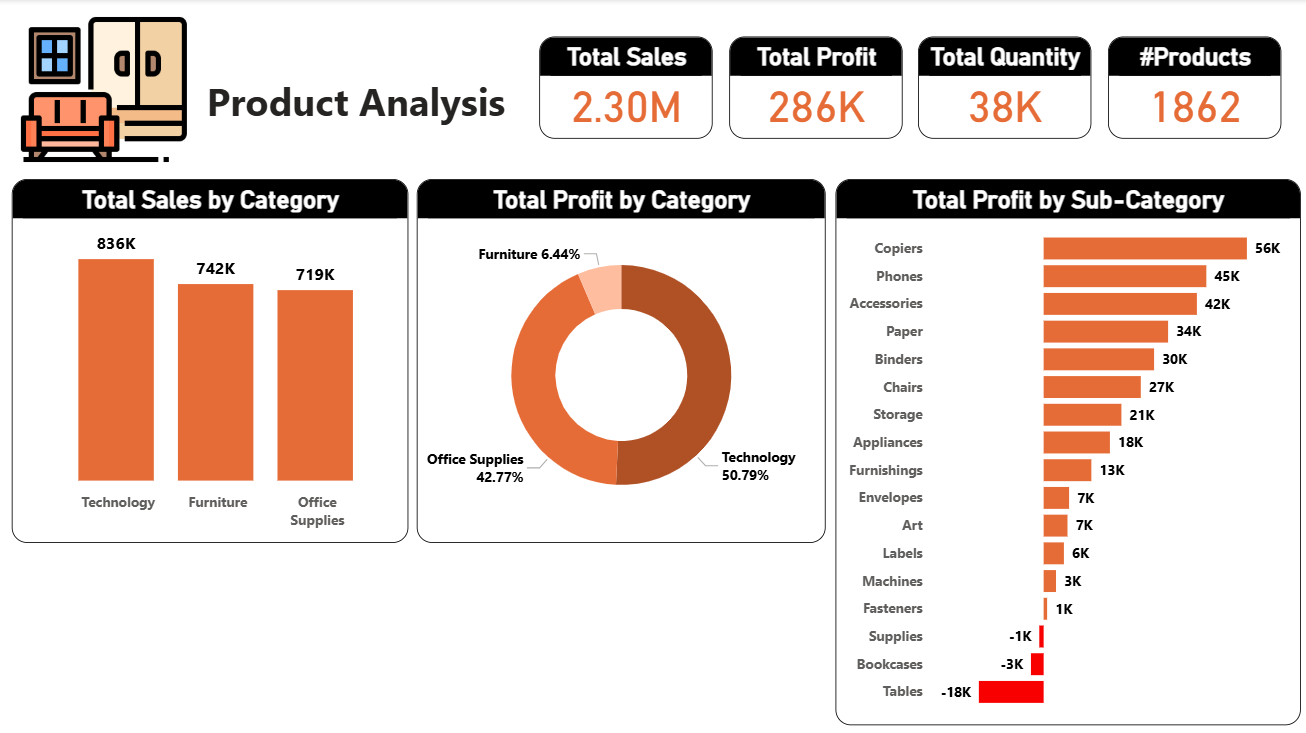

This screenshot's page, from the dashboard's own definition file:
{"tool":"powerbi","page":{"name":"Products","canvas":[1280,720],"ordinal":1},"visuals":[{"type":"image","box":[0,0,207.9,172.4],"z":0},{"type":"card","title":"Total Sales","fields":{"Values":["Sum(DS.Sales)"]},"box":[529.5,36.7,170,100.3],"z":0,"group":"g1"},{"type":"card","title":"Total Profit","fields":{"Values":["Sum(DS.Profit)"]},"box":[715,36.7,170,100.3],"z":1000,"group":"g1"},{"type":"textbox","box":[199.3,69.7,314.3,68.5],"z":1000},{"type":"group","id":"g1","title":"Group 1","box":[529.5,36.7,726.4,100.3],"z":2000},{"type":"card","title":"Total Quantity","fields":{"Values":["Sum(DS.Quantity)"]},"box":[900.4,36.7,170,100.3],"z":2000,"group":"g1"},{"type":"card","title":"#Products","fields":{"Values":["Count(DS.Product ID)"]},"box":[1085.6,36.7,170,100.3],"z":3000,"group":"g1"},{"type":"clusteredColumnChart","title":"Total Sales by Category","fields":{"Category":["DS.Category"],"Y":["Sum(DS.Sales)"]},"box":[13.1,176.1,387.6,355.8],"z":3000},{"type":"donutChart","title":"Total Profit by Category","fields":{"Category":["DS.Category"],"Y":["Sum(DS.Profit)"]},"box":[409.6,176.1,399.9,355.8],"z":4000},{"type":"clusteredBarChart","title":"Total Profit by Sub-Category","fields":{"Category":["DS.Sub-Category"],"Y":["Sum(DS.Profit)"]},"box":[819.3,176.1,454.9,534.4],"z":5000}]}

Visuals, with their boxes in screenshot pixels (x1, y1, x2, y2), scaled from the page's 1280x720 canvas onto the 1306x733 screenshot:
image: bbox=[0, 0, 212, 176]
"Total Sales" card: bbox=[540, 37, 714, 139]
"Total Profit" card: bbox=[730, 37, 903, 139]
textbox: bbox=[203, 71, 524, 141]
"Group 1" group: bbox=[540, 37, 1281, 139]
"Total Quantity" card: bbox=[919, 37, 1092, 139]
"#Products" card: bbox=[1108, 37, 1281, 139]
"Total Sales by Category" clusteredColumnChart: bbox=[13, 179, 409, 542]
"Total Profit by Category" donutChart: bbox=[418, 179, 826, 542]
"Total Profit by Sub-Category" clusteredBarChart: bbox=[836, 179, 1300, 723]
